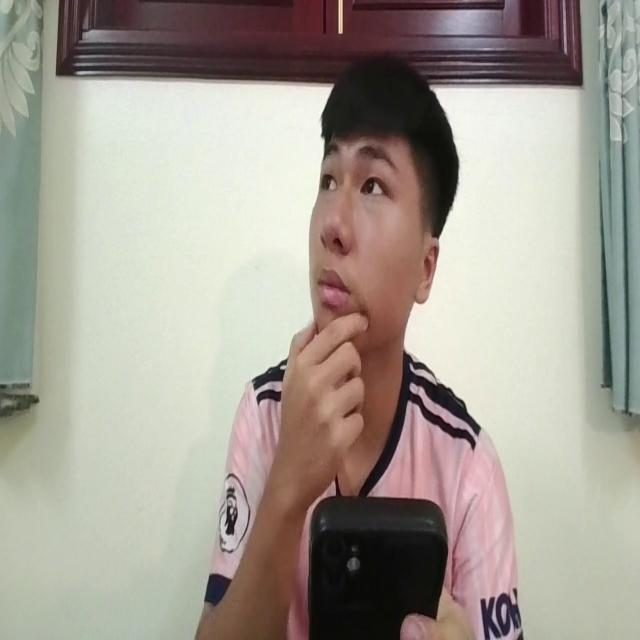phone: (309, 486, 447, 640)
student: (199, 44, 521, 640)
